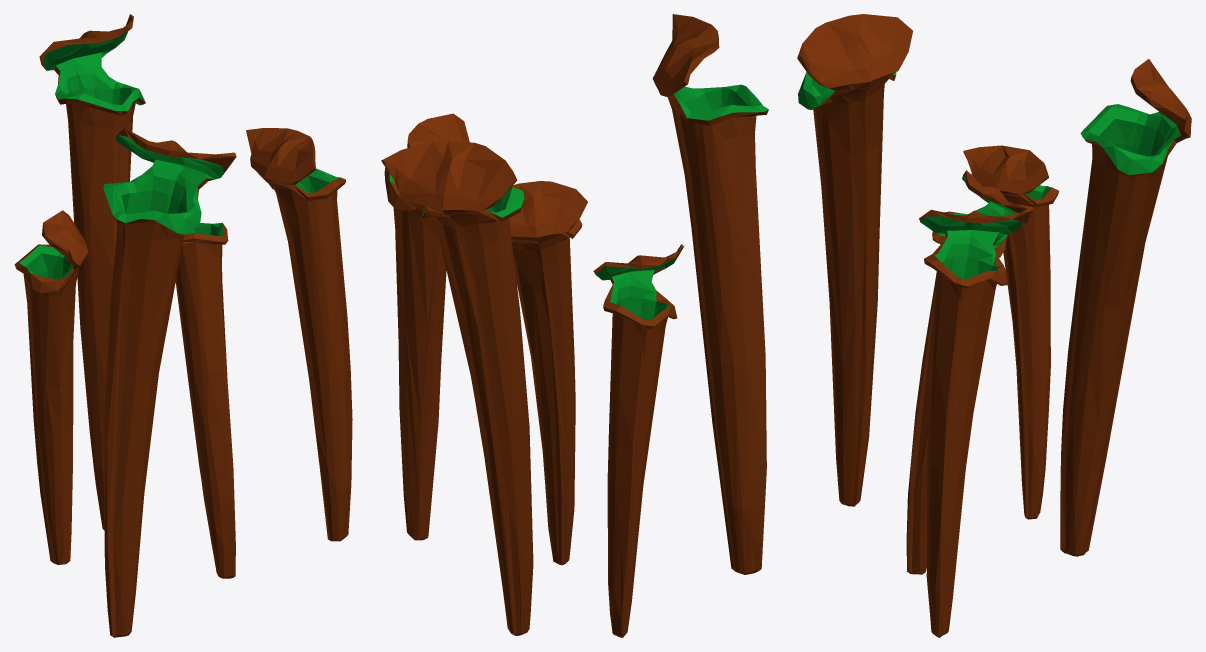
Rendered from ShrubTrumpet02.fbx.
3 renders of one model, left to right at view 1: azimuth 30°, elevation 25°; view 2: azimuth 150°, elevation 25°; view 3: azimuth 270°, elevation 25°, orthographic. The views are drawn at different scales.
Visible parts, largest first — view 1: ShrubTrumpet02; view 2: ShrubTrumpet02; view 3: ShrubTrumpet02.
Part boxes in pixels (x1,y1,x2,y2): ShrubTrumpet02: [14, 14, 352, 637]; ShrubTrumpet02: [381, 14, 768, 637]; ShrubTrumpet02: [797, 14, 1191, 637].
Bounding box in the file's own units: 84.4 × 132 × 94.37.
